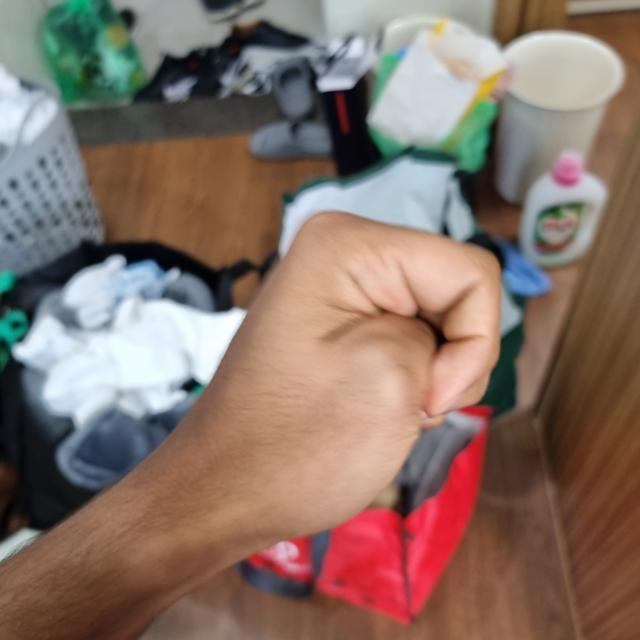Rock: (158, 215, 506, 560)
